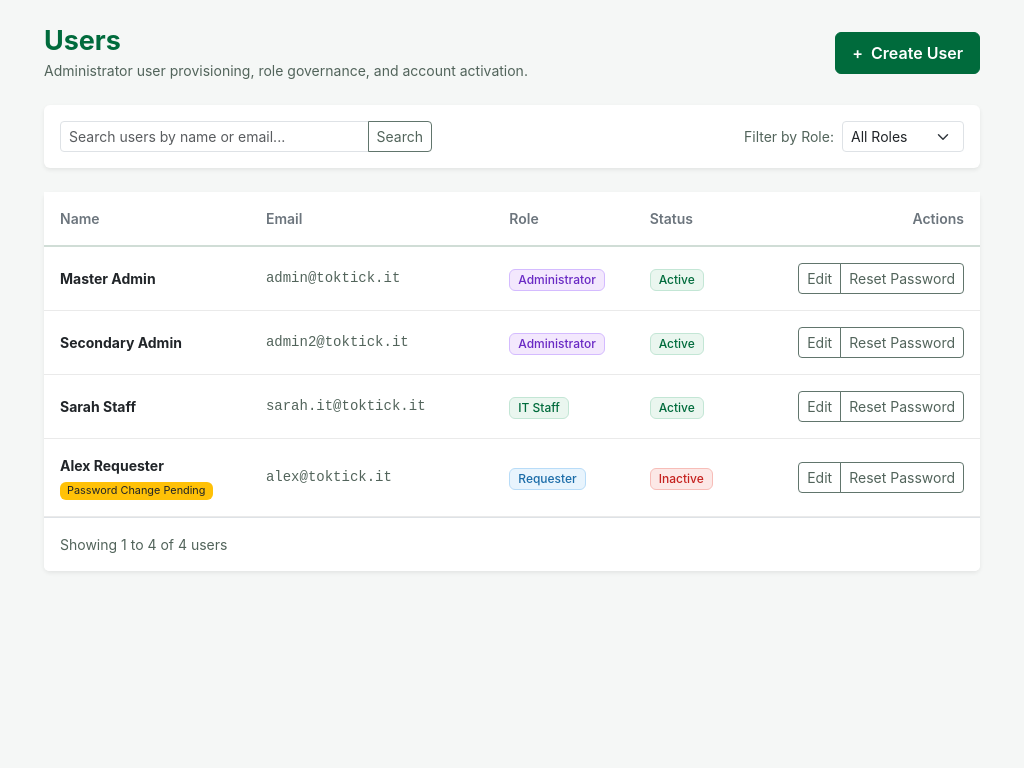
Test case: UI-07 & UI-08: Administrator User Management & Safety Guards › supports searching users by name or email
Type "Sarah" into the field with placeholder "Search users by name or email...". click: (214, 137)
box: top-left (60, 121), bottom-right (368, 152)
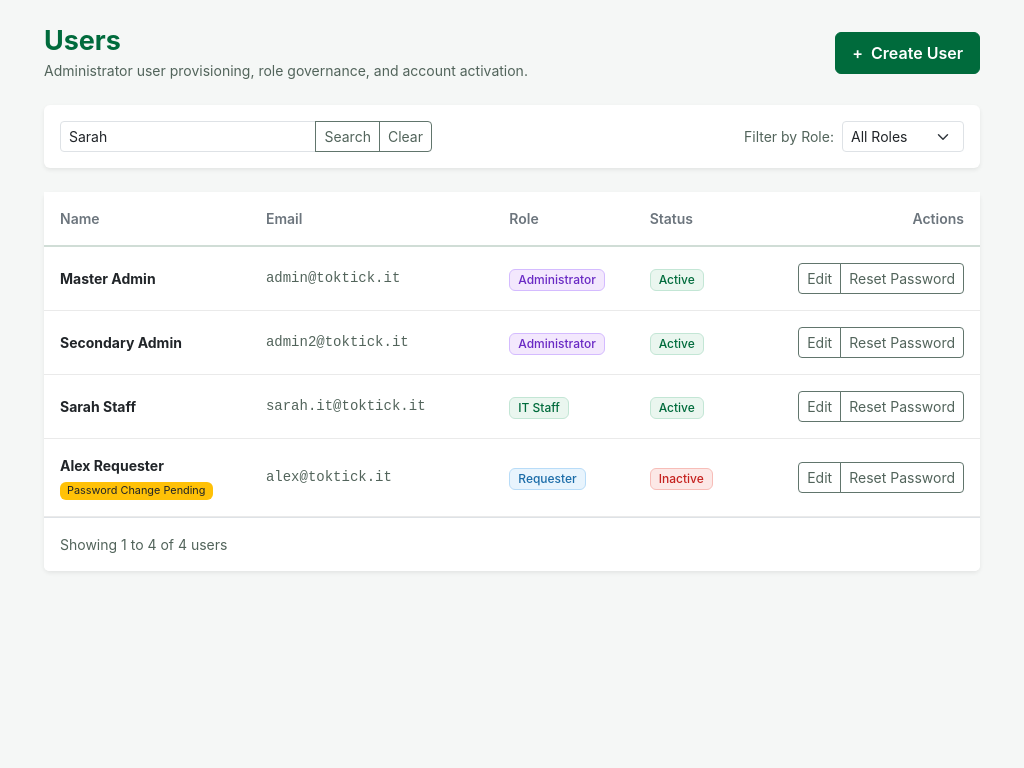
Click the button "Search". click: (348, 137)
box: top-left (316, 121), bottom-right (380, 152)
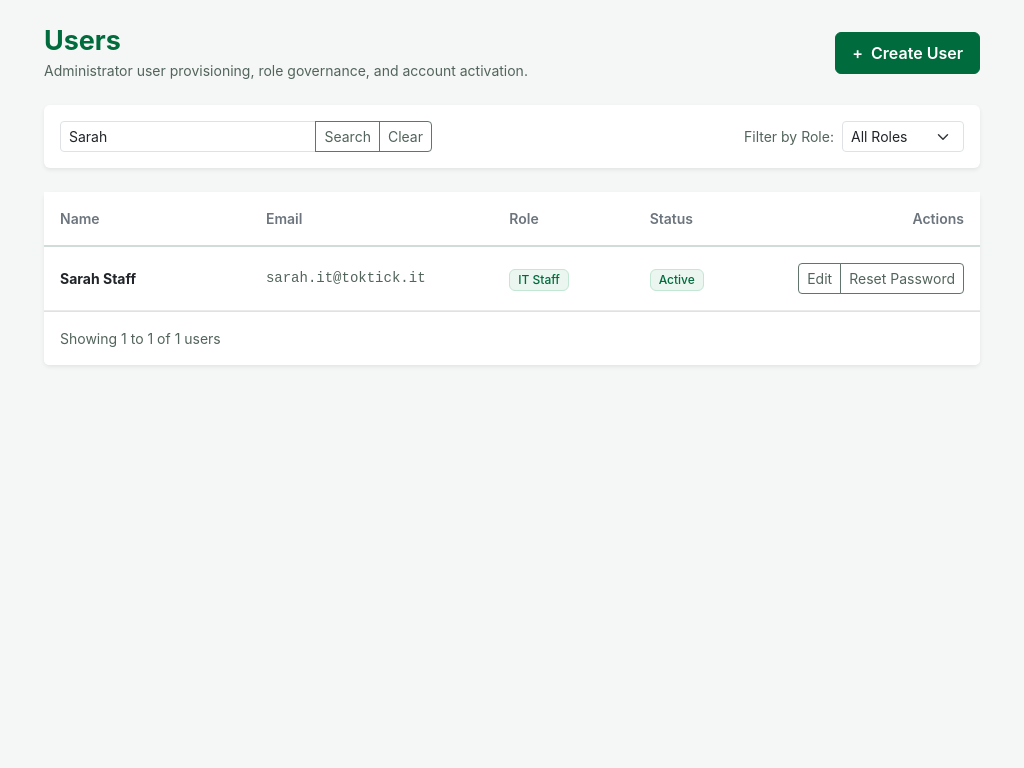
Check: the text "Master Admin" is gone
